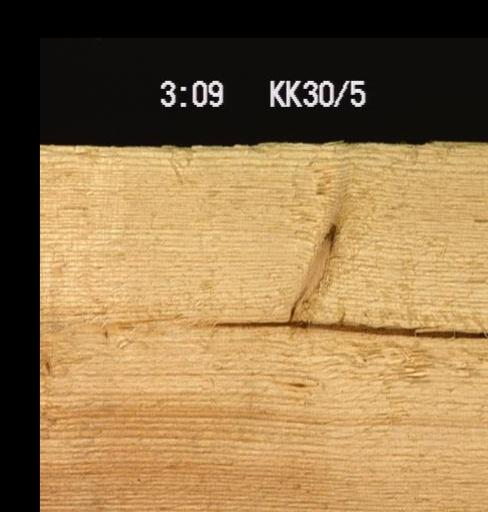small_knot: (39, 353, 62, 373)
